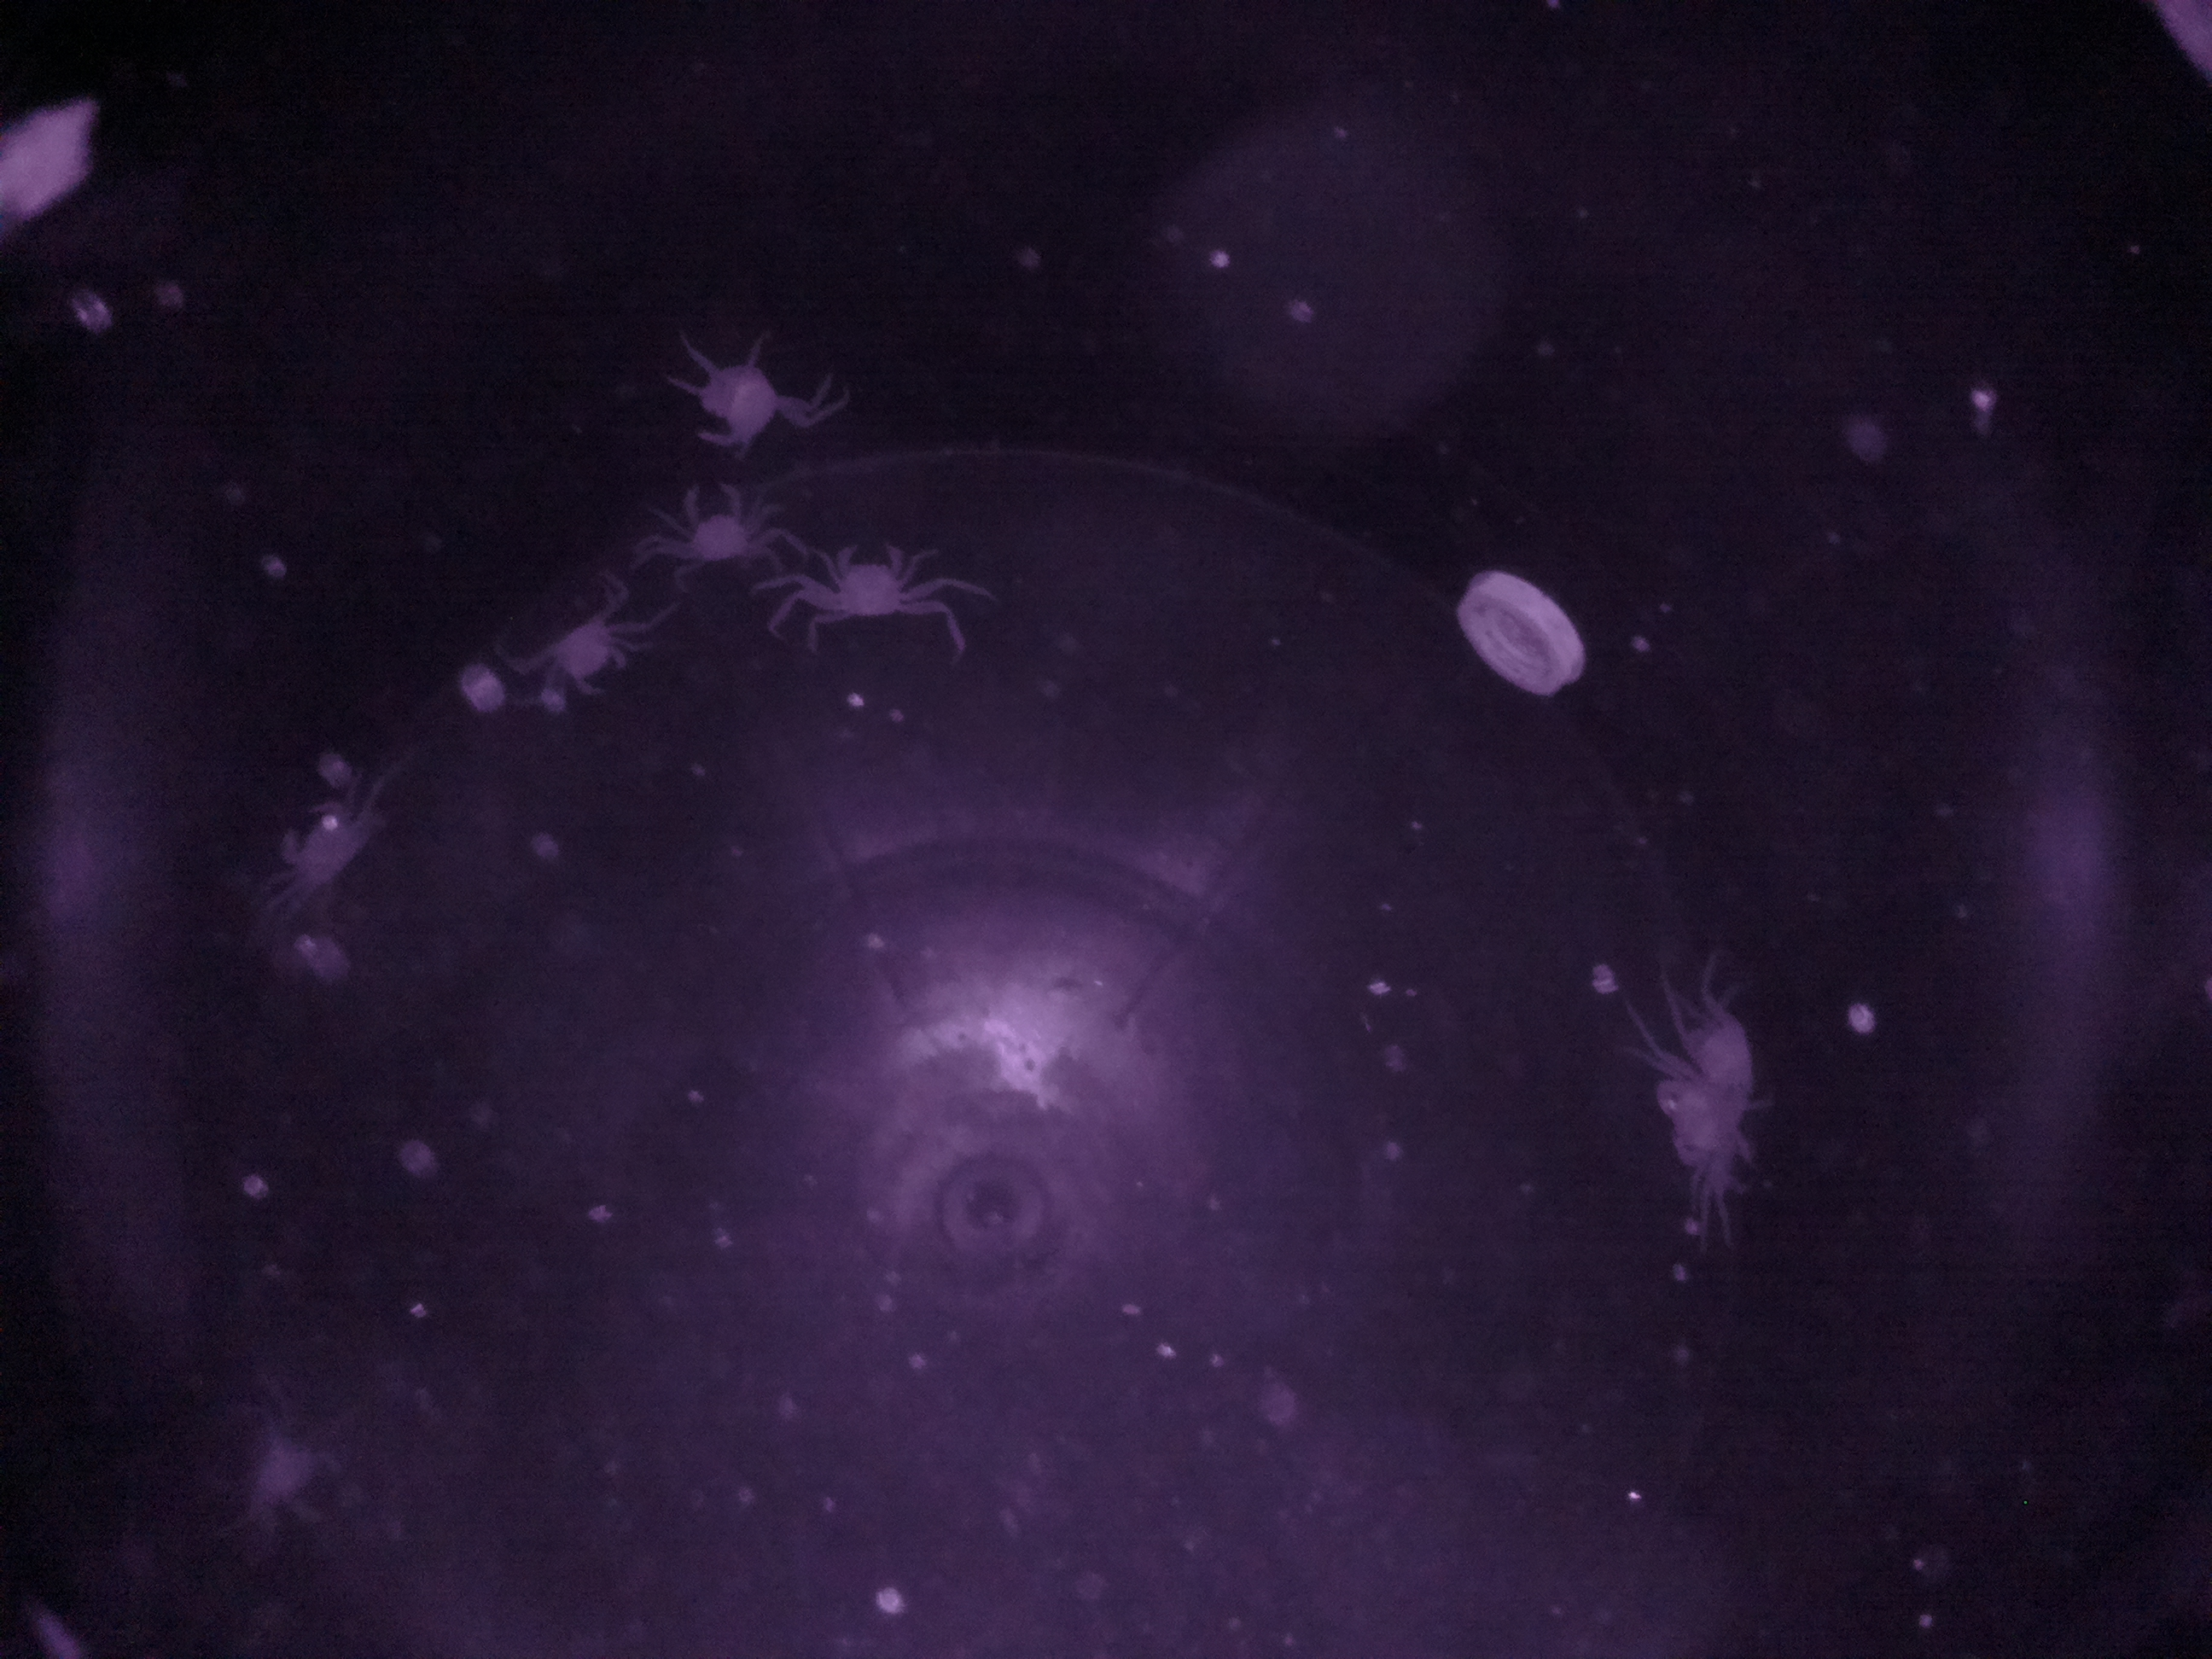Crab: (817, 525, 934, 641), (529, 594, 644, 709), (671, 467, 770, 587)
